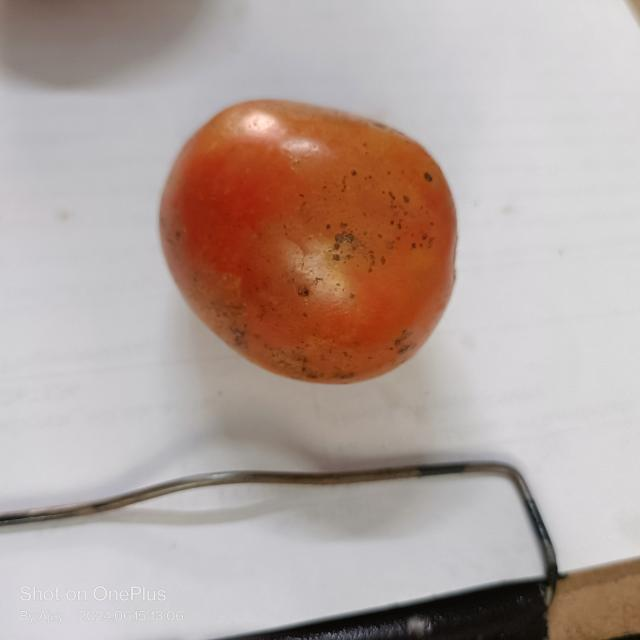Bacterial_Spot: (294, 282, 316, 303), (417, 163, 435, 188)
